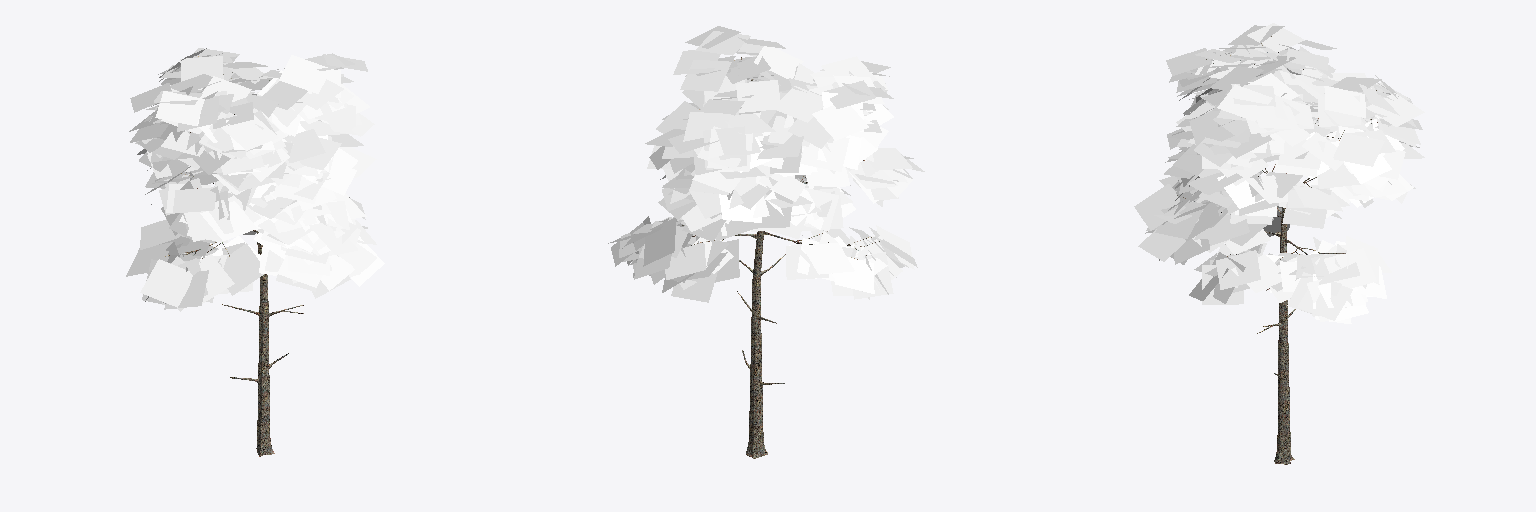
3 views of the same model, side by side, from view 1: azimuth 30°, elevation 25°; view 2: azimuth 150°, elevation 25°; view 3: azimuth 270°, elevation 25° (orthographic).
Parts seen in each view (by area): view 1: autumn_tree_Material 1, autumn_tree_Material 2; view 2: autumn_tree_Material 1, autumn_tree_Material 2; view 3: autumn_tree_Material 1, autumn_tree_Material 2.
Part boxes in pixels (bbox=[...]): autumn_tree_Material 1: bbox=[126, 48, 384, 311]; autumn_tree_Material 2: bbox=[165, 56, 303, 456]; autumn_tree_Material 1: bbox=[608, 26, 924, 302]; autumn_tree_Material 2: bbox=[682, 57, 879, 458]; autumn_tree_Material 1: bbox=[1134, 23, 1424, 323]; autumn_tree_Material 2: bbox=[1177, 36, 1377, 464].
Size of the model in its own units: 93.45 by 134 by 88.85.
3 materials, 2 textured.